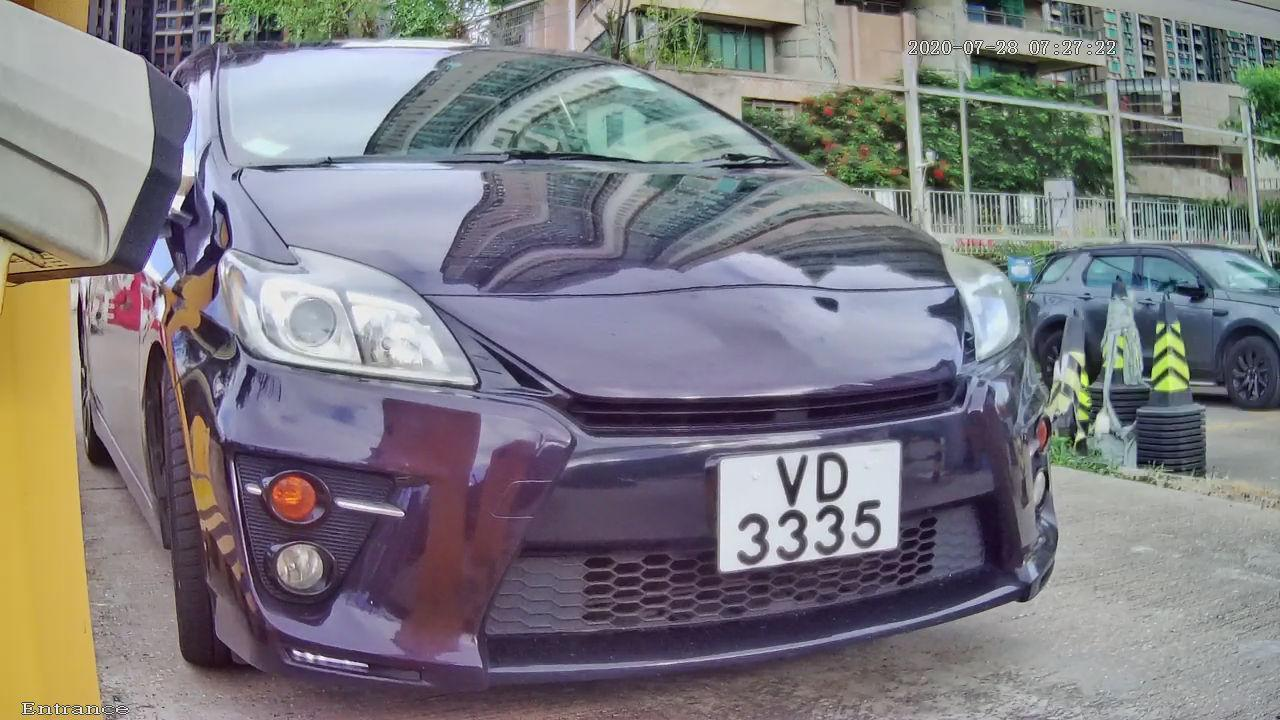privatecar: (75, 20, 1149, 711)
